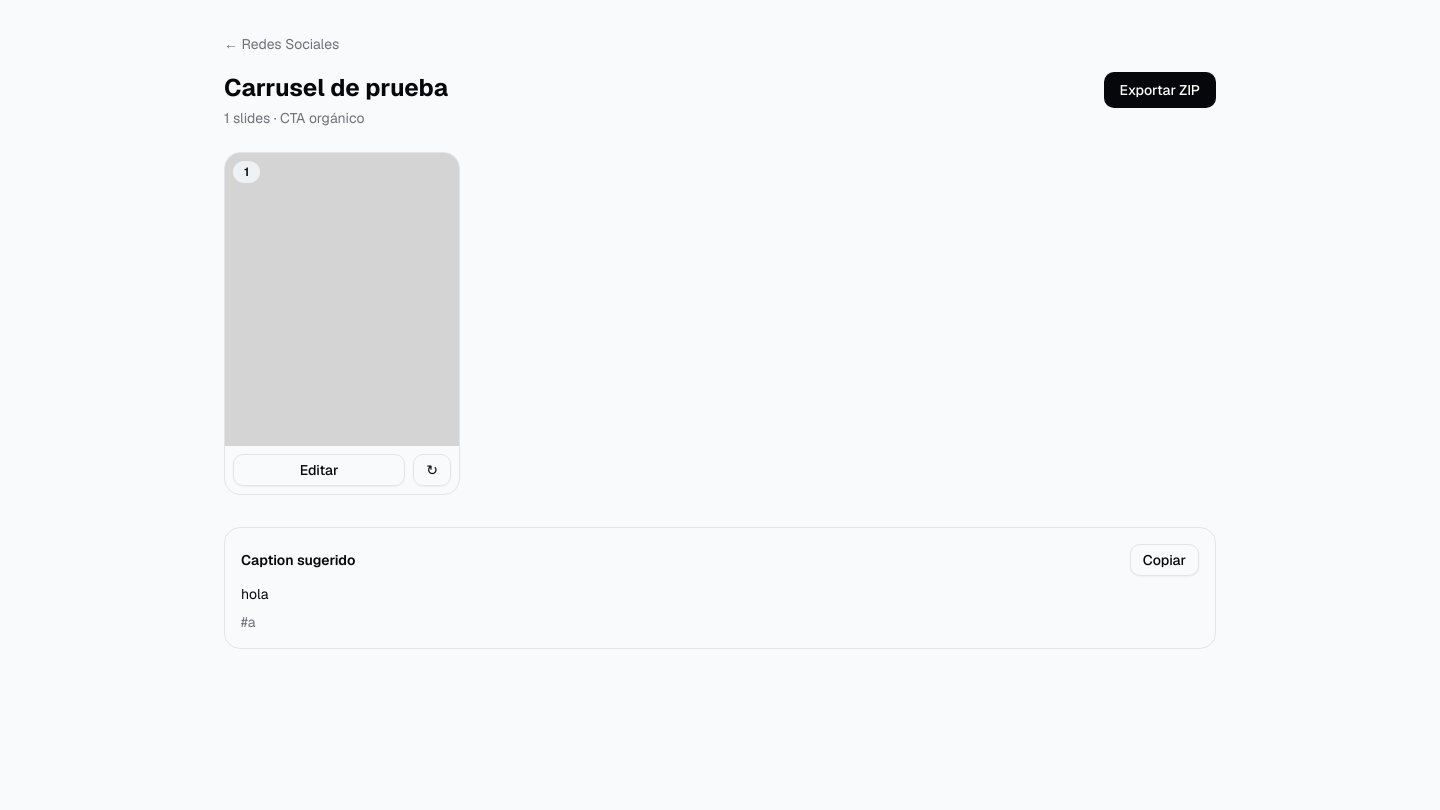
Scenario: Detalle de carrusel — el error del slide se ve › cuando el guardado sale bien, el diálogo se cierra
Click the button "Editar".
click(319, 470)  # box left=233, top=454, right=405, bottom=486
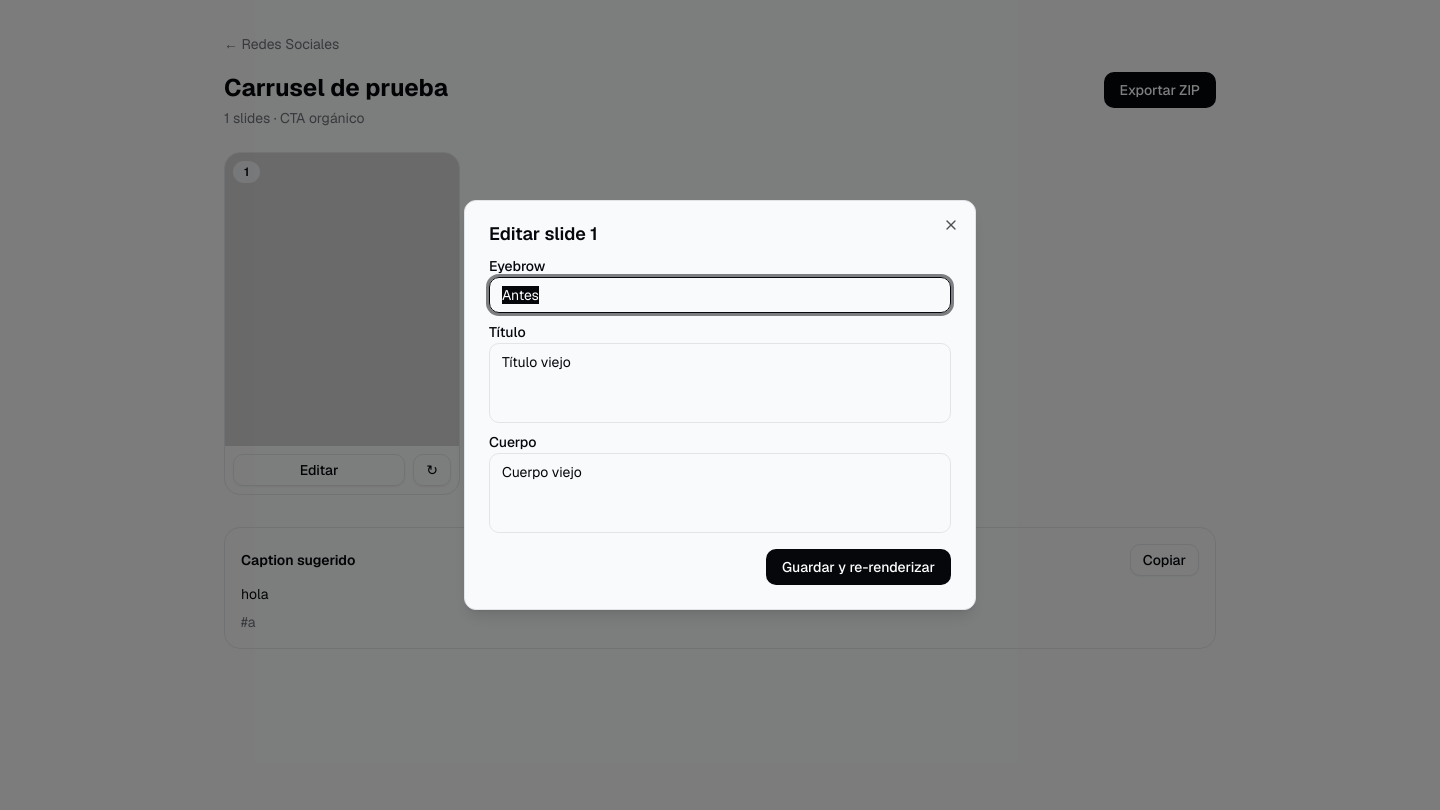
Click the button "Guardar y re-renderizar".
click(859, 567)  # box left=766, top=549, right=951, bottom=585
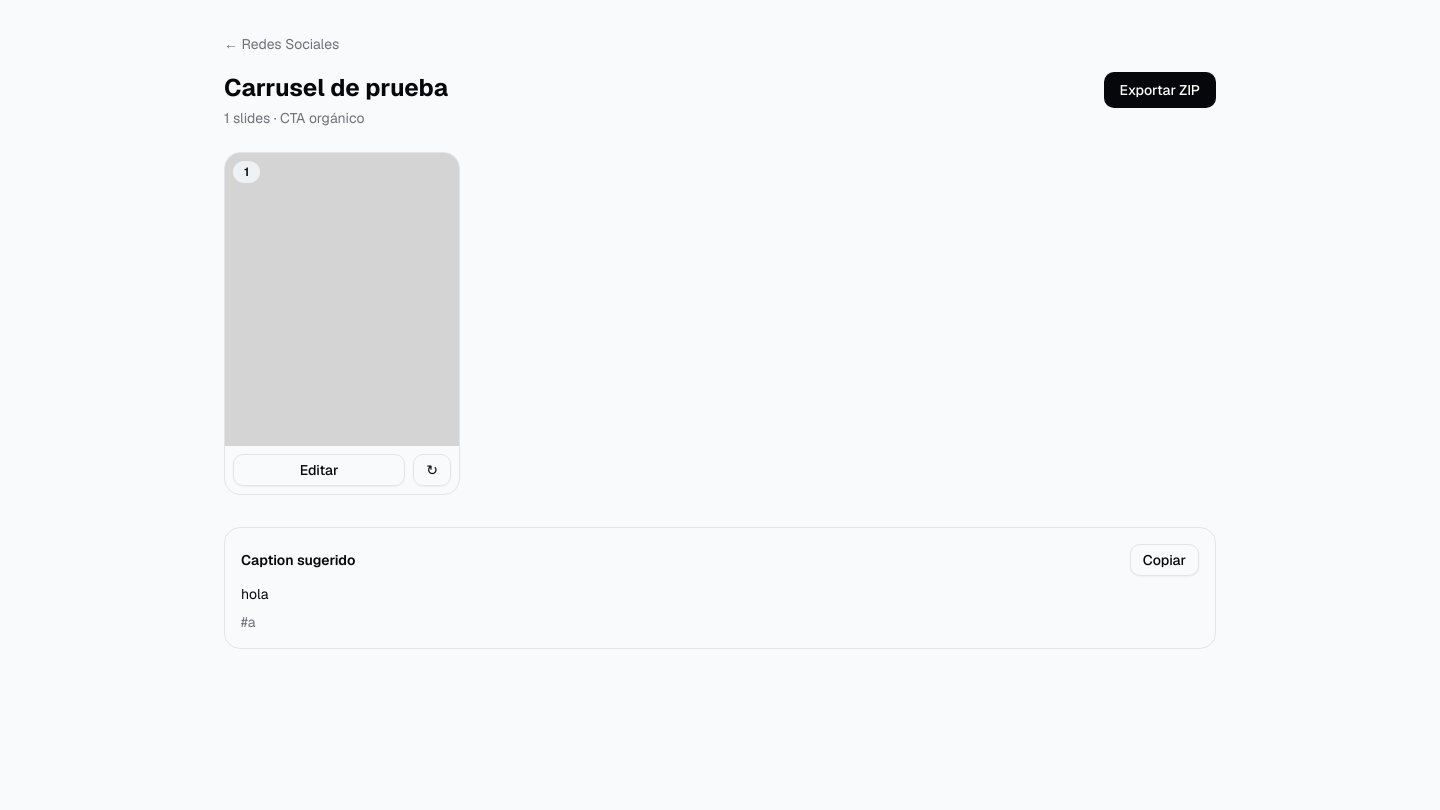
expect the button "Guardar y re-renderizar" is gone: met
